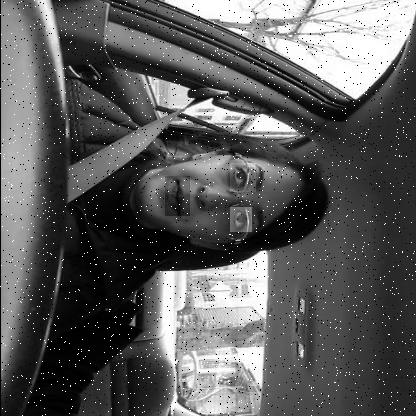seatbelt: (68, 102, 344, 274)
